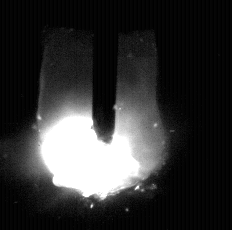arame: (93, 0, 116, 144)
poca: (36, 0, 169, 230)
